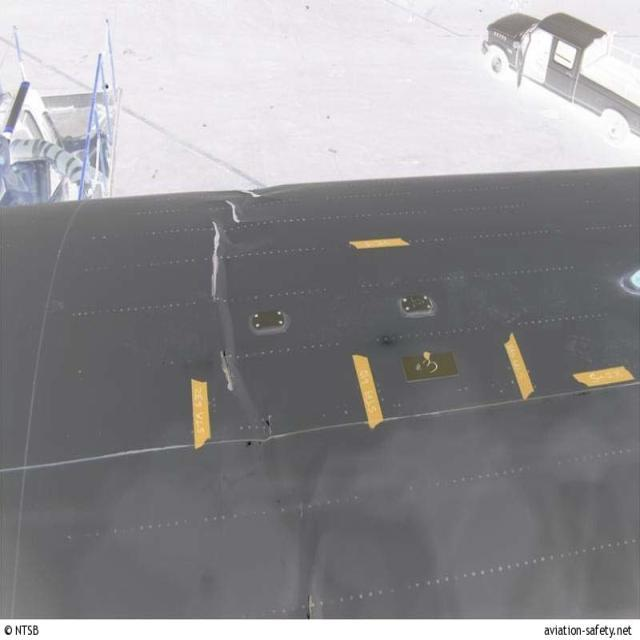crack: (207, 217, 226, 306), (220, 349, 240, 397), (225, 196, 244, 226)
